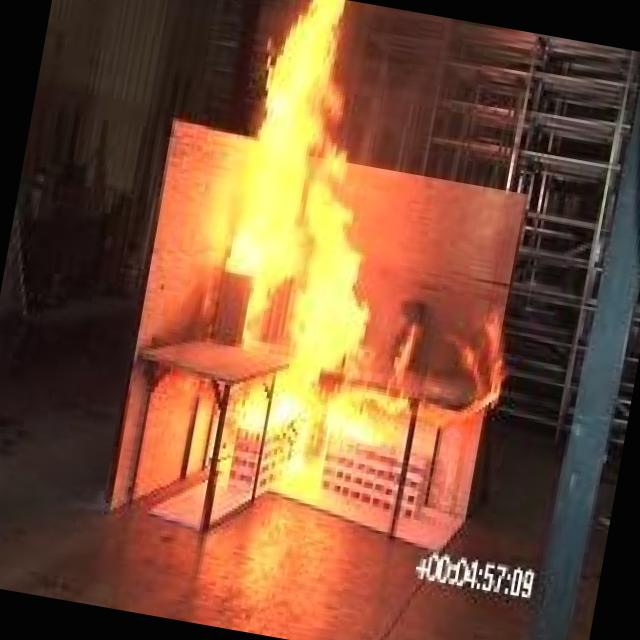fire: (140, 0, 485, 527)
